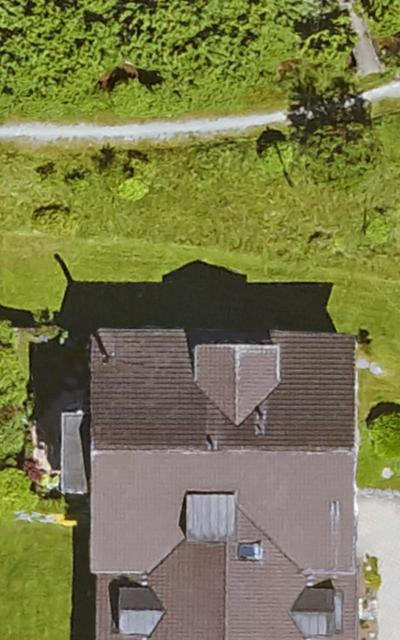tree: (297, 118, 379, 189), (0, 467, 43, 513), (367, 0, 400, 36), (370, 411, 400, 448)
